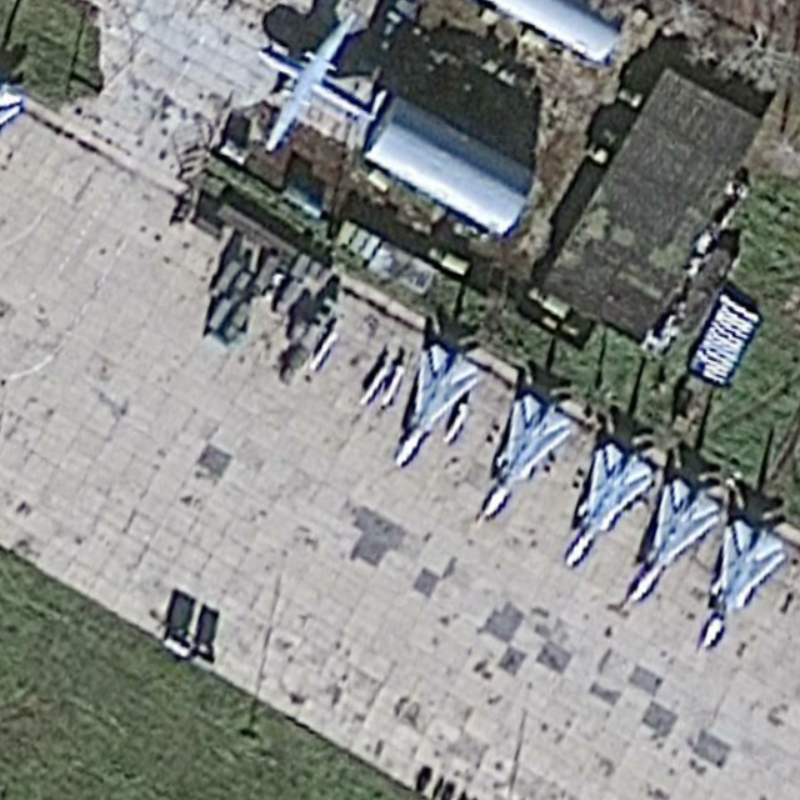A20: (627, 476, 722, 605), (562, 440, 656, 569), (481, 390, 574, 518), (700, 517, 789, 650), (391, 341, 482, 471)
